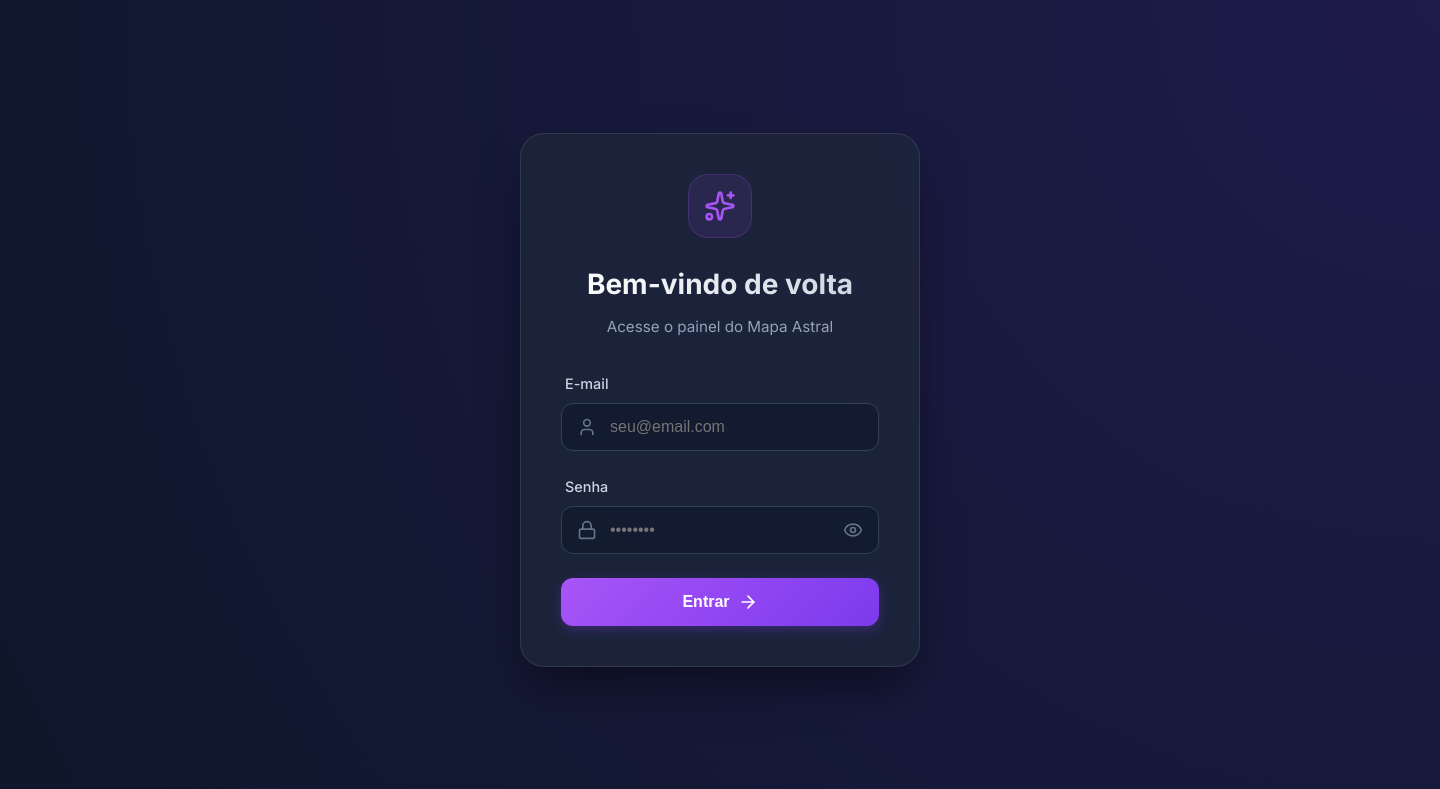
it: Fluxo Login e Dashboard › Deve fazer login e redirecionar para dashboard
# Preencher formulário
Type "teste@teste.com" into the field with placeholder "seu@email.com" at {"x": 720, "y": 427}, box [561,403,879,451]
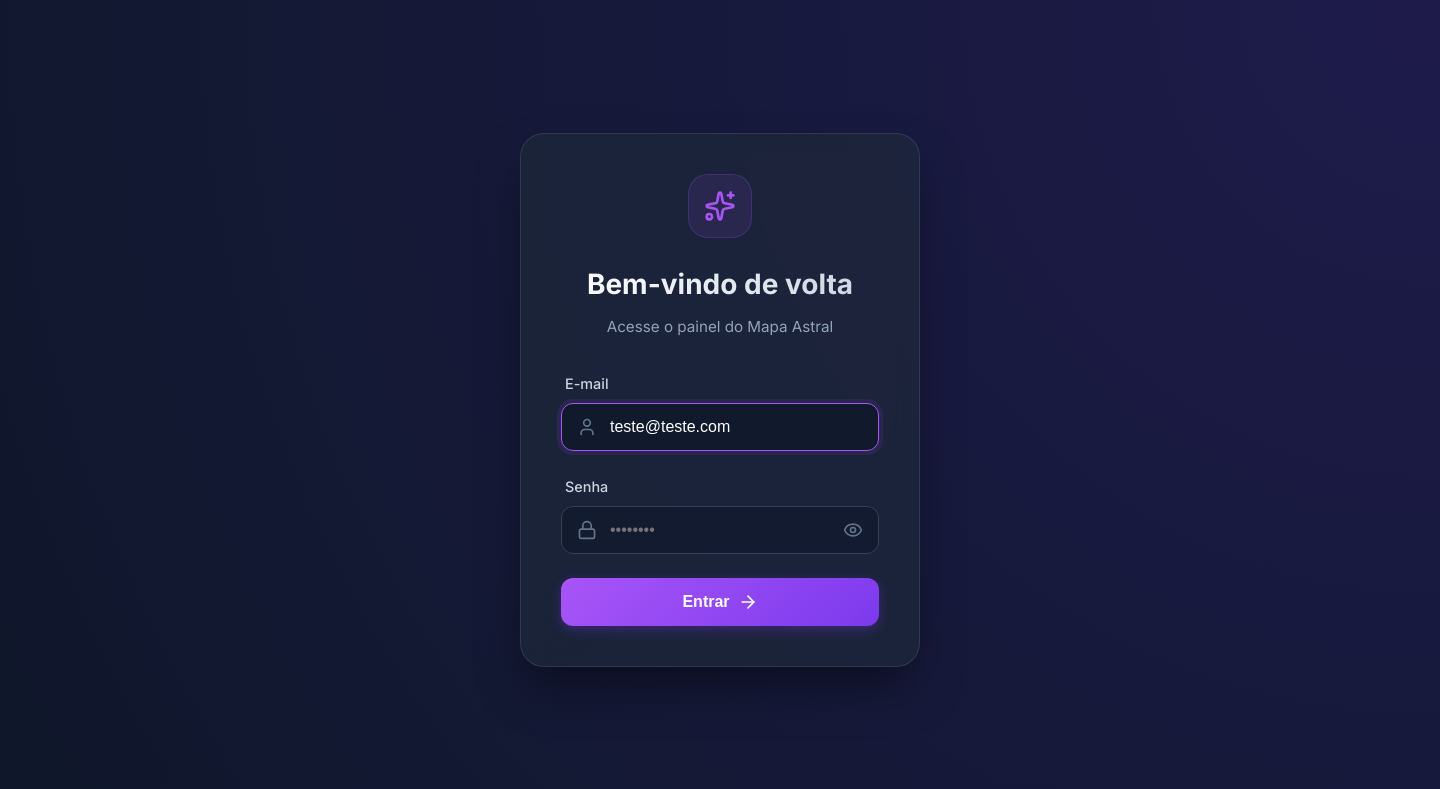
Type "123456" into the password field with placeholder "••••••••" at {"x": 720, "y": 530}, box [561,506,879,554]
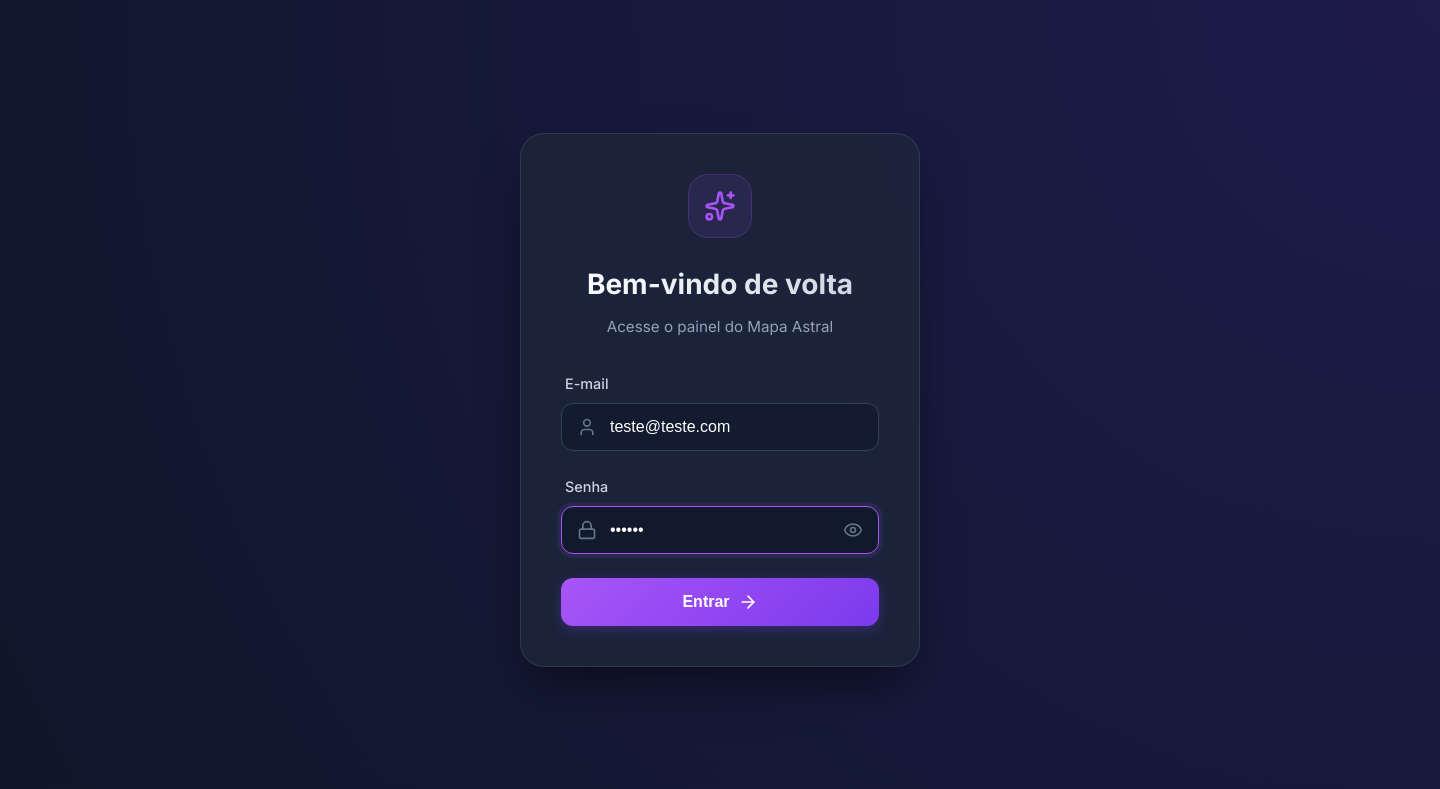
Click the button "Entrar" at {"x": 720, "y": 602}, box [561,578,879,626]
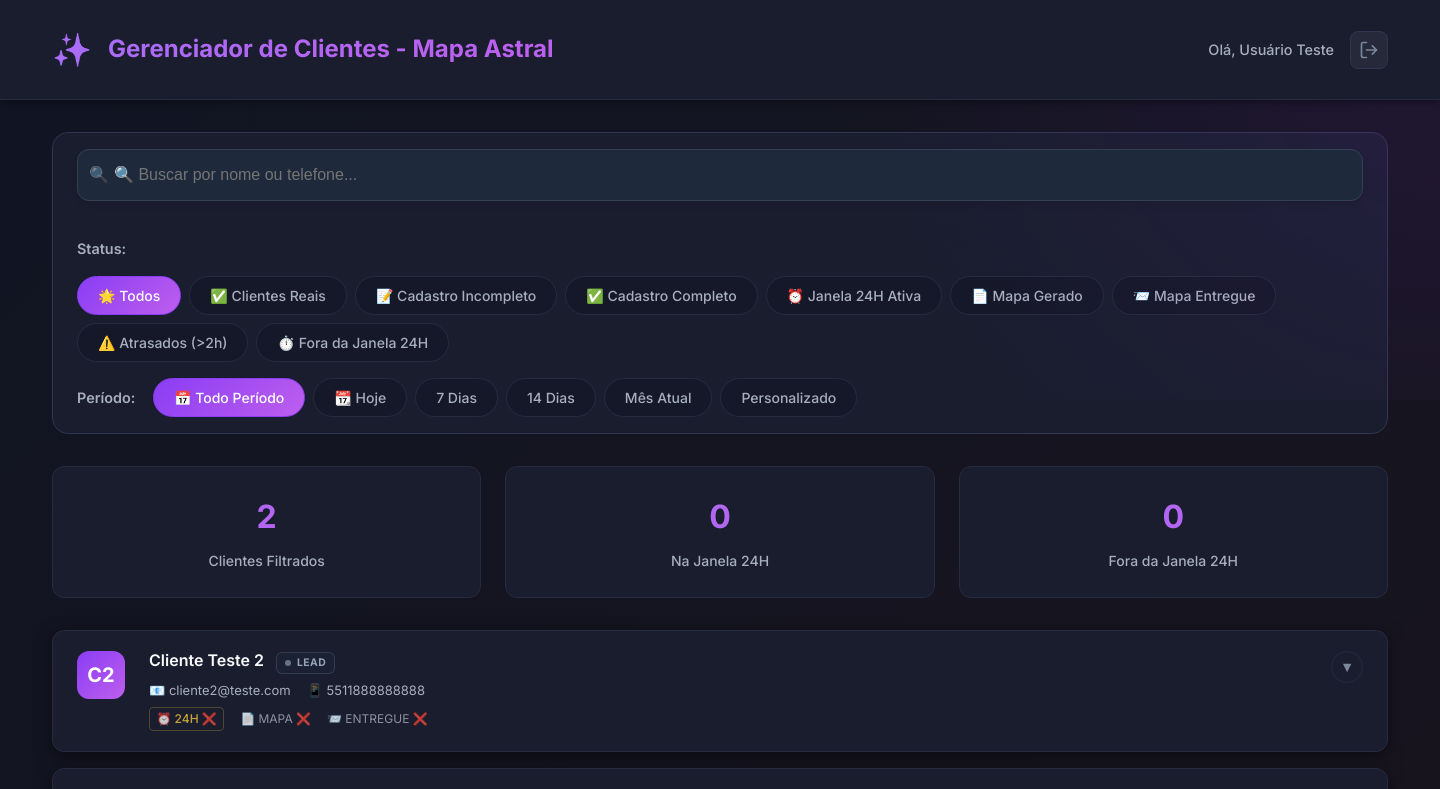
expect the heading "✨ Gerenciador de Clientes - Mapa Astral" is shown: met, box [52,24,554,75]
expect the text "Usuário Teste" is shown: met, box [1239,41,1334,58]
